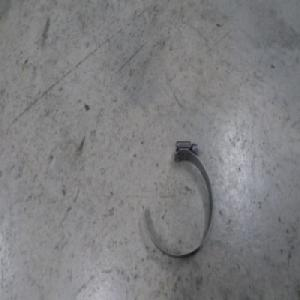AdjustableClamp: (140, 137, 212, 256)
